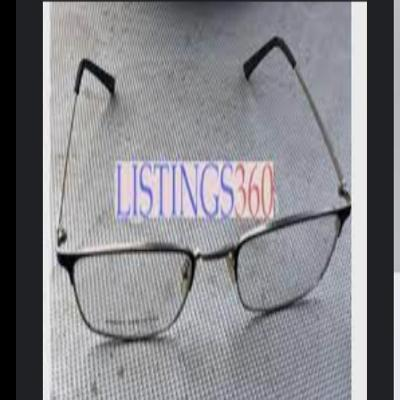glasses: (56, 35, 353, 345)
